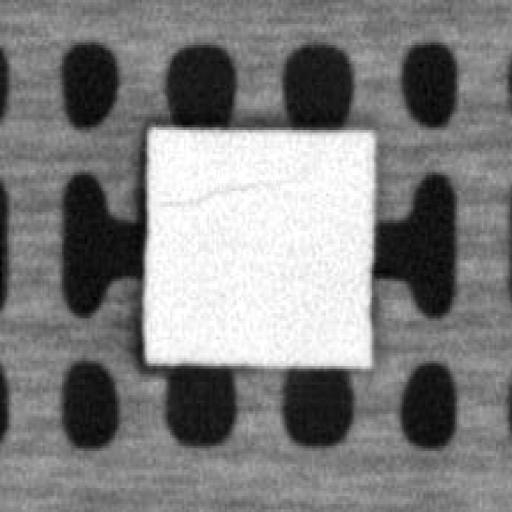DIE_CRACK: (152, 167, 284, 204)
